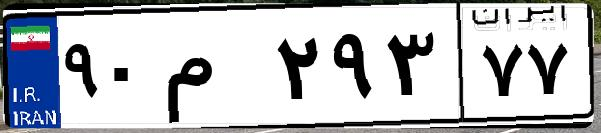0: (110, 28, 158, 98)
2: (270, 28, 330, 110)
3: (385, 28, 445, 110)
7: (475, 38, 525, 113), (525, 38, 570, 115)
9: (330, 28, 385, 110), (57, 26, 110, 100)
م: (158, 20, 270, 120)
